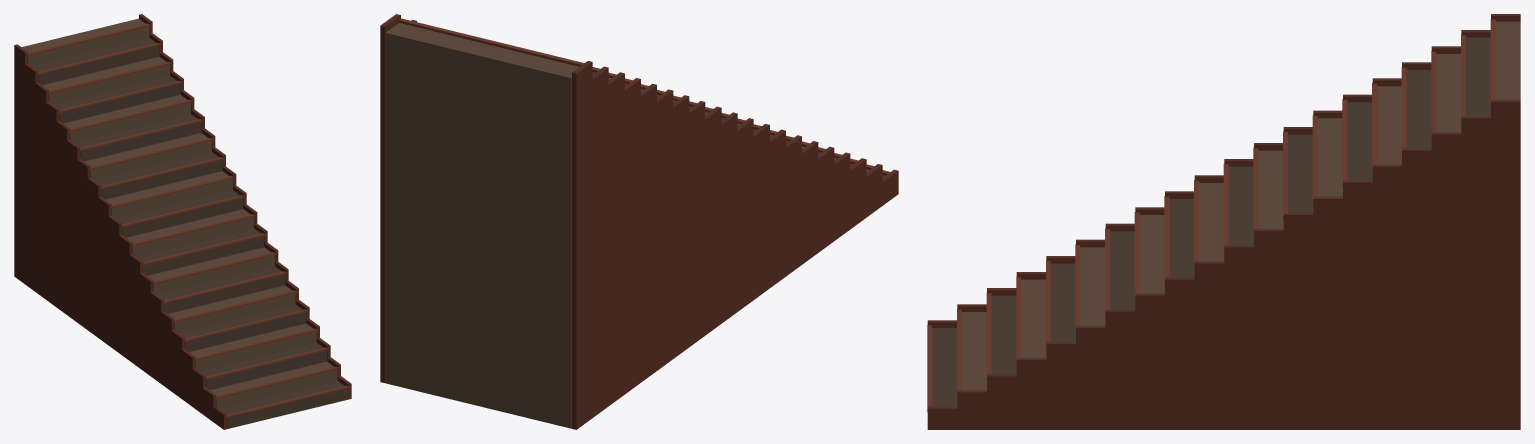
The model's file is SM_ENV_EscadaServico.fbx.
3 views of the same model, side by side, from view 1: azimuth 30°, elevation 25°; view 2: azimuth 150°, elevation 25°; view 3: azimuth 270°, elevation 25° (orthographic). The views are drawn at different scales.
Visible parts, largest first — view 1: SM_ENV_EscadaServico; view 2: SM_ENV_EscadaServico; view 3: SM_ENV_EscadaServico.
Part boxes in pixels (bbox=[...]): SM_ENV_EscadaServico: bbox=[14, 14, 351, 429]; SM_ENV_EscadaServico: bbox=[380, 14, 898, 429]; SM_ENV_EscadaServico: bbox=[927, 14, 1520, 429].
Bounding box in the file's own units: 2.11 × 3.66 × 6.01.
